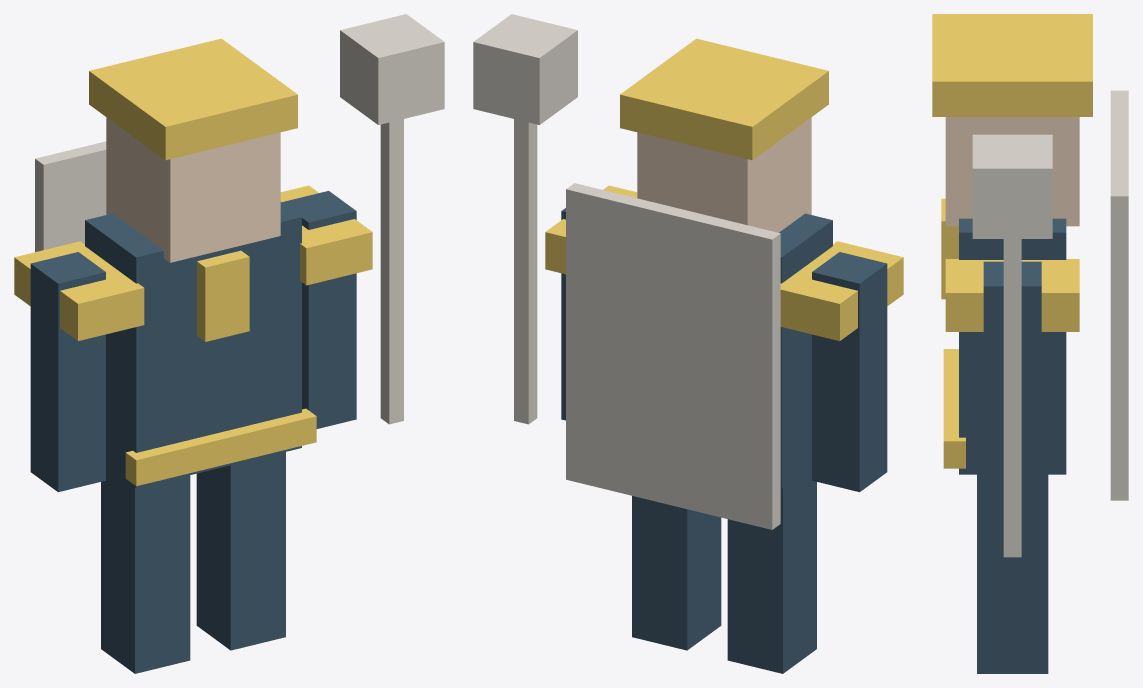
The model's file is 19_luma_ironwake_operator_from_life.glb.
3 views of the same model, side by side, from view 1: azimuth 30°, elevation 25°; view 2: azimuth 150°, elevation 25°; view 3: azimuth 270°, elevation 25° (orthographic). The views are drawn at different scales.
Visible parts, largest first — view 1: Luma Ironwake, Operator from Life; view 2: Luma Ironwake, Operator from Life; view 3: Luma Ironwake, Operator from Life.
Part boxes in pixels (x1,y1,x2,y2): Luma Ironwake, Operator from Life: [14, 14, 444, 673]; Luma Ironwake, Operator from Life: [473, 14, 903, 673]; Luma Ironwake, Operator from Life: [932, 14, 1128, 673].
Bounding box in the file's own units: 1.05 × 1.48 × 0.4477.
